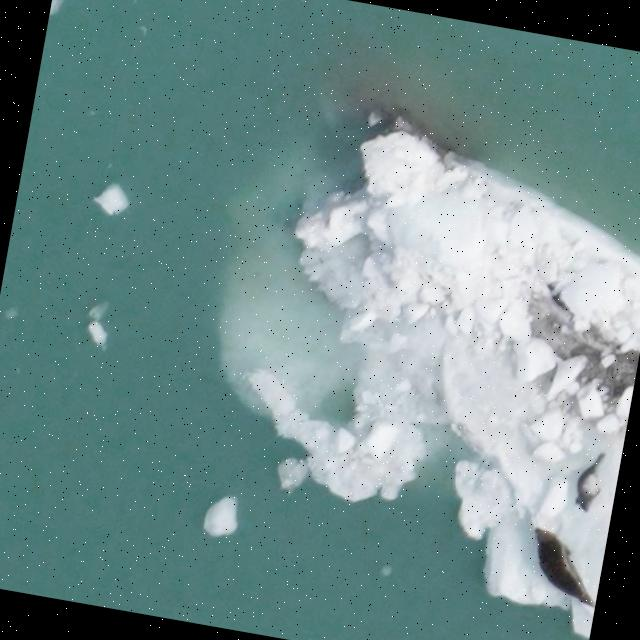seal: (535, 529, 596, 607), (574, 454, 607, 512)
